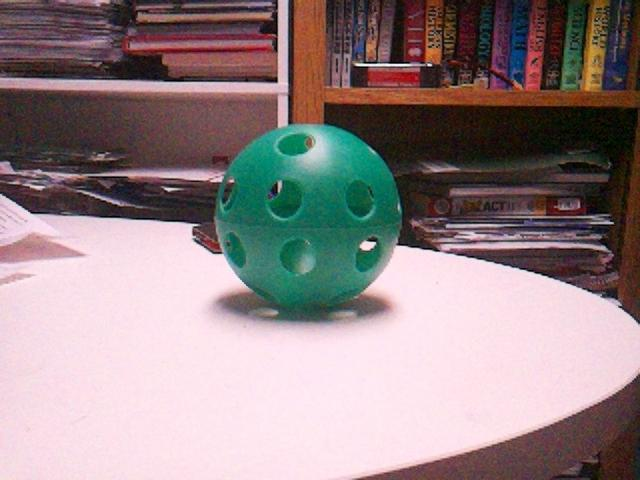Green: (215, 124, 401, 311)
